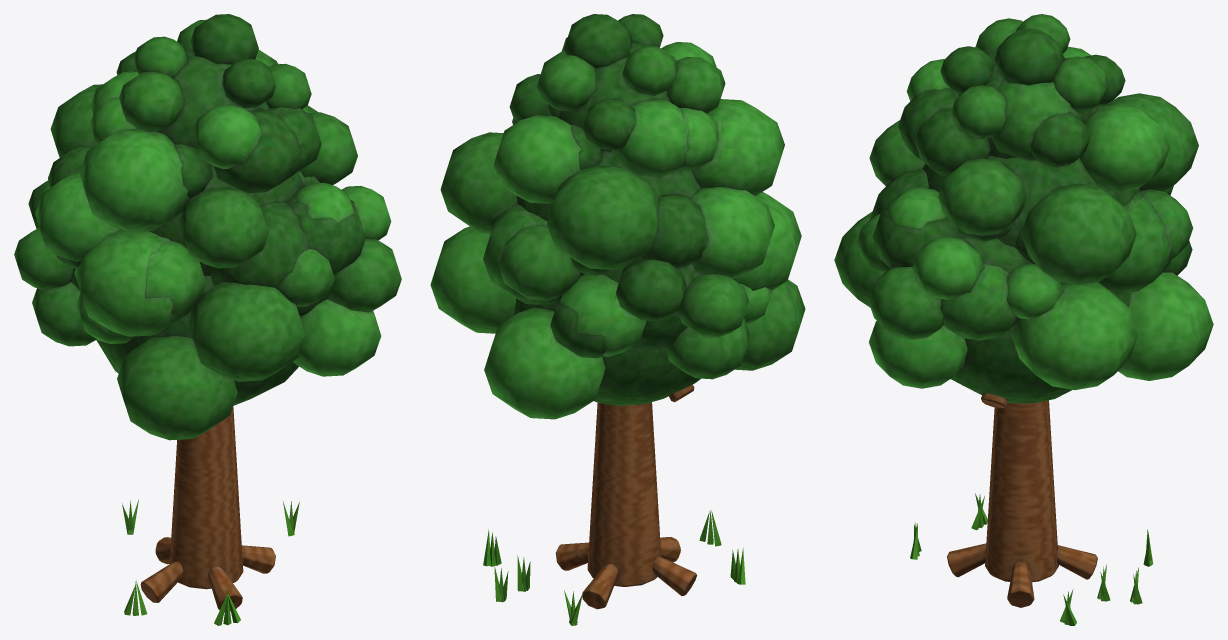
Rendered from soursop_tree.glb.
3 renders of one model, left to right at view 1: azimuth 30°, elevation 25°; view 2: azimuth 150°, elevation 25°; view 3: azimuth 270°, elevation 25°, orthographic.
Visible parts, largest first — view 1: crown, soursop_tree; view 2: crown, soursop_tree; view 3: crown, soursop_tree.
Boxes of the visible parts, x1,y1,x2,y2 form: crown: (14,14,401,440); soursop_tree: (122,406,299,625); crown: (430,14,805,419); soursop_tree: (483,384,745,625); crown: (834,14,1213,403); soursop_tree: (910,393,1153,625).
Size of the model in its own units: 0.8784 by 1.49 by 0.9188.
Materials: 1 (1 with a texture image).
